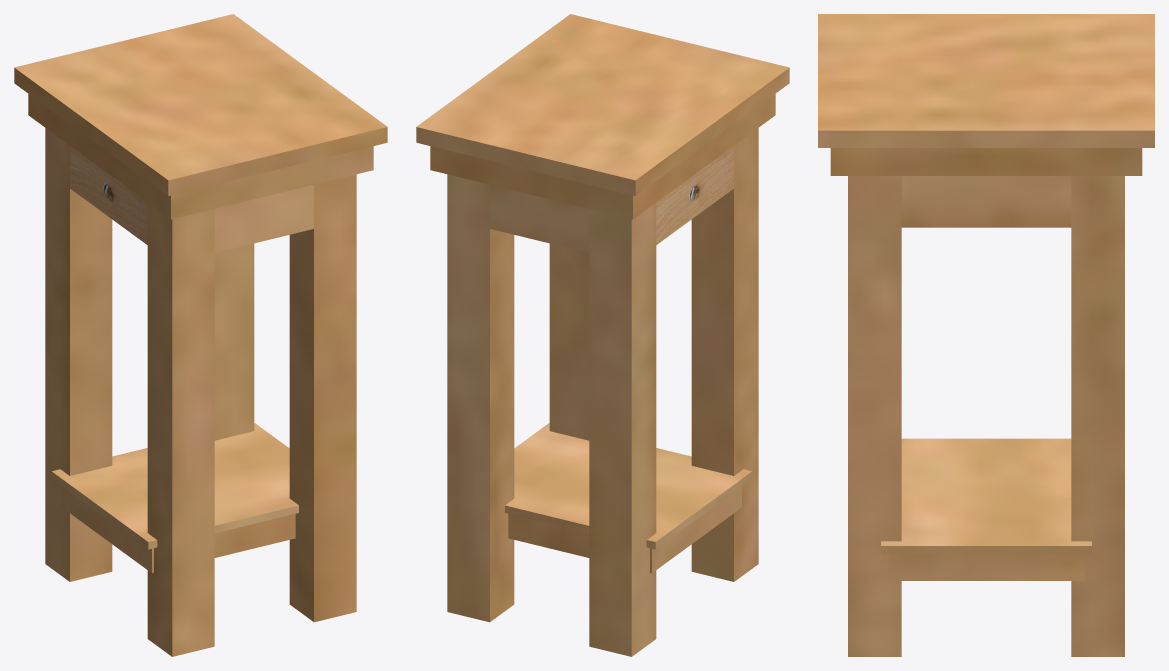
File: timba1.fbx
3 renders of one model, left to right at view 1: azimuth 30°, elevation 25°; view 2: azimuth 150°, elevation 25°; view 3: azimuth 270°, elevation 25°, orthographic. The views are drawn at different scales.
Parts seen in each view (by area): view 1: Cube; view 2: Cube; view 3: Cube.
Boxes of the visible parts, x1,y1,x2,y2 form: Cube: [14, 14, 387, 656]; Cube: [416, 14, 789, 656]; Cube: [818, 14, 1154, 656].
Bounding box in the file's own units: 61.84 × 75.35 × 132.
1 material, 1 textured.
